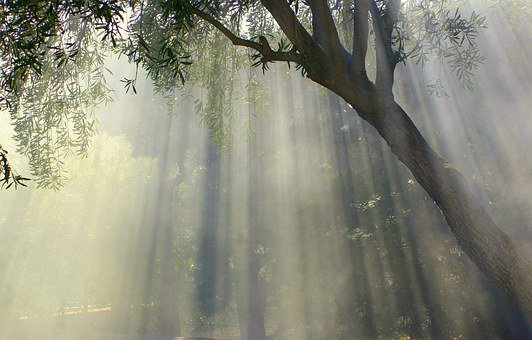forest: (10, 5, 531, 338)
tree: (69, 10, 532, 331)
